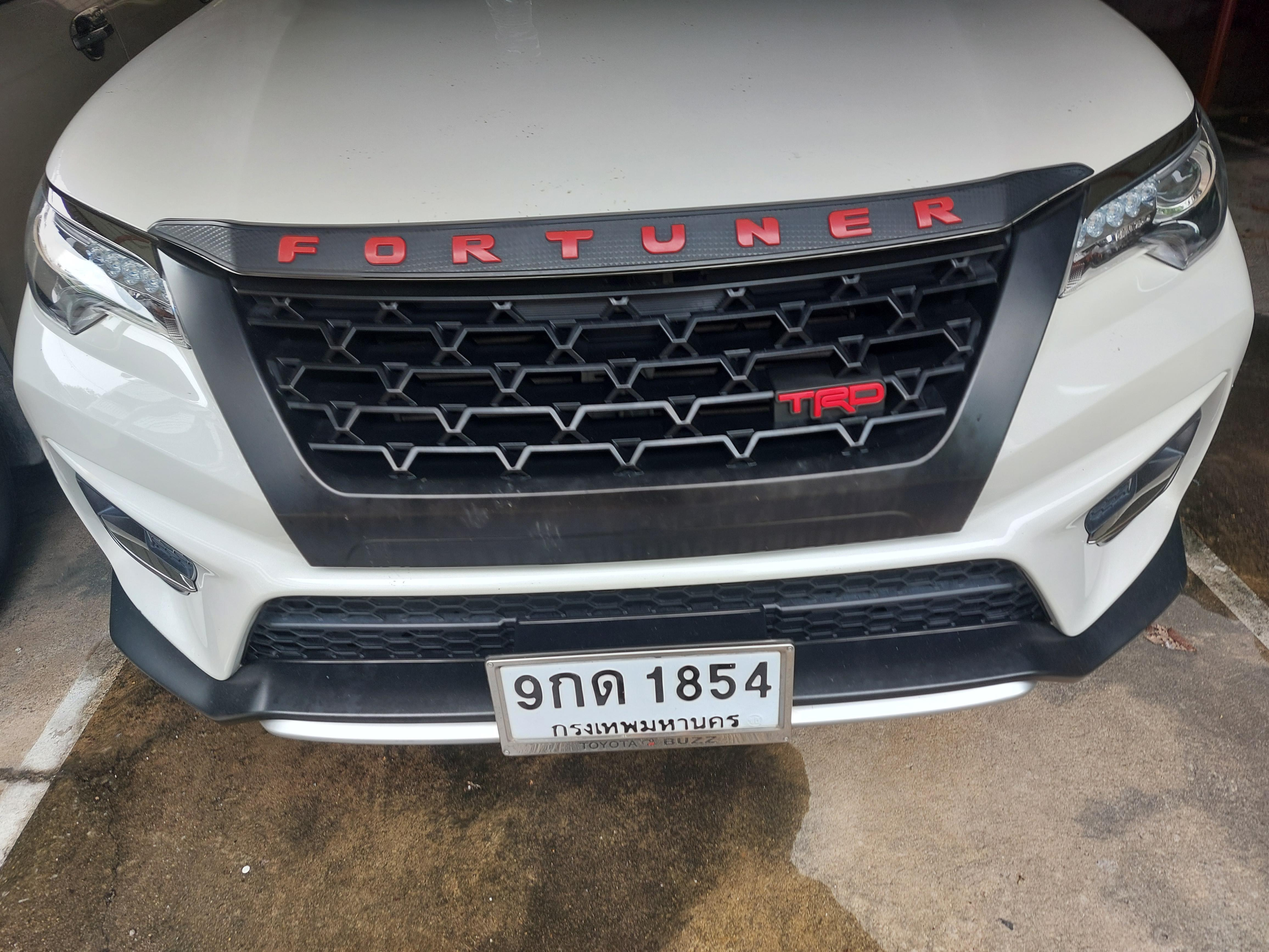license-plate: (485, 630, 805, 761)
